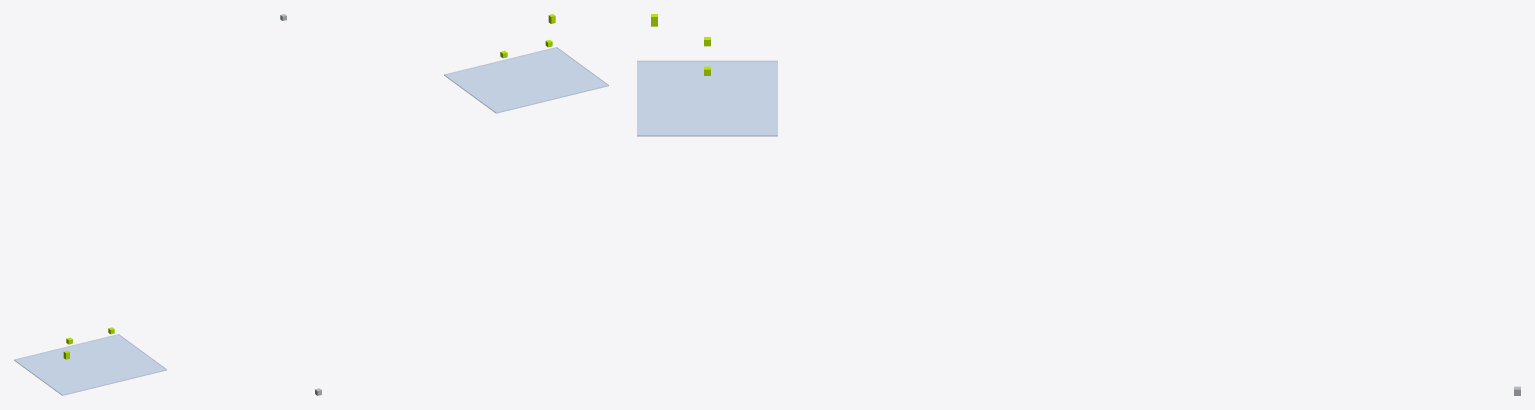
Rendered from mep.fbx.
The picture shows the model from 3 angles, left to right: view 1: azimuth 30°, elevation 25°; view 2: azimuth 210°, elevation 25°; view 3: azimuth 270°, elevation 25°; orthographic projection. The views are drawn at different scales.
Visible parts, largest first — view 1: 0MEP$Space$Office$0000; view 2: 0MEP$Space$Office$0000; view 3: 0MEP$Space$Office$0000.
Boxes of the visible parts, x1,y1,x2,y2 form: 0MEP$Space$Office$0000: [14, 334, 166, 395]; 0MEP$Space$Office$0000: [444, 47, 608, 113]; 0MEP$Space$Office$0000: [637, 60, 777, 136].
Bounding box in the file's own units: 50.2 × 3.4 × 50.2.
